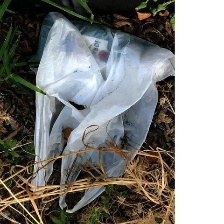plastic_bag: (21, 7, 183, 216)
